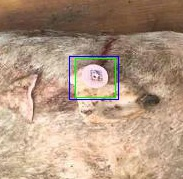text: (75, 58, 115, 97)
